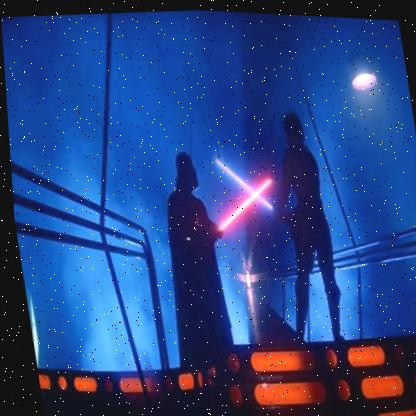lightsaber: (196, 172, 285, 251), (211, 153, 284, 224)
